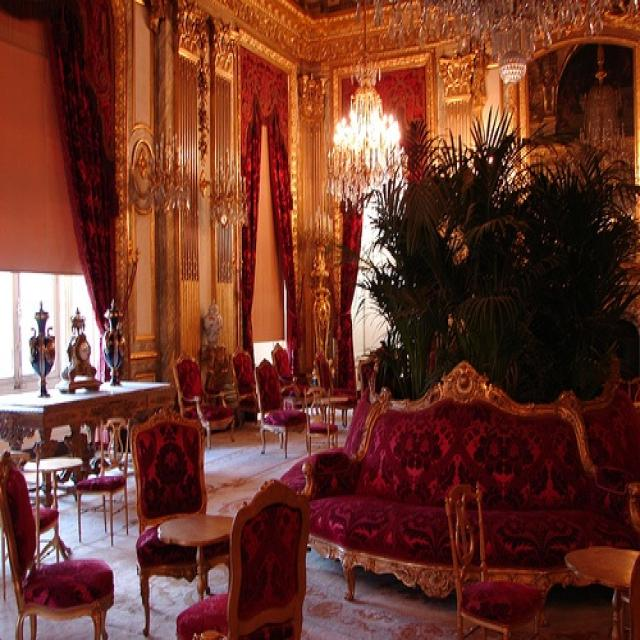chair: (128, 401, 237, 626), (0, 452, 123, 638), (173, 474, 310, 635), (439, 476, 549, 638), (172, 355, 240, 449), (252, 360, 311, 456), (270, 340, 307, 414)
diningtable: (0, 355, 177, 568)
sofa: (300, 355, 638, 614), (571, 370, 639, 495)
